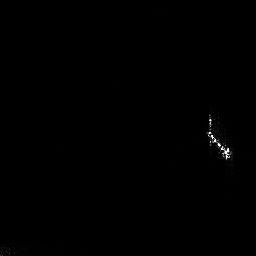ship: (204, 111, 233, 164)
